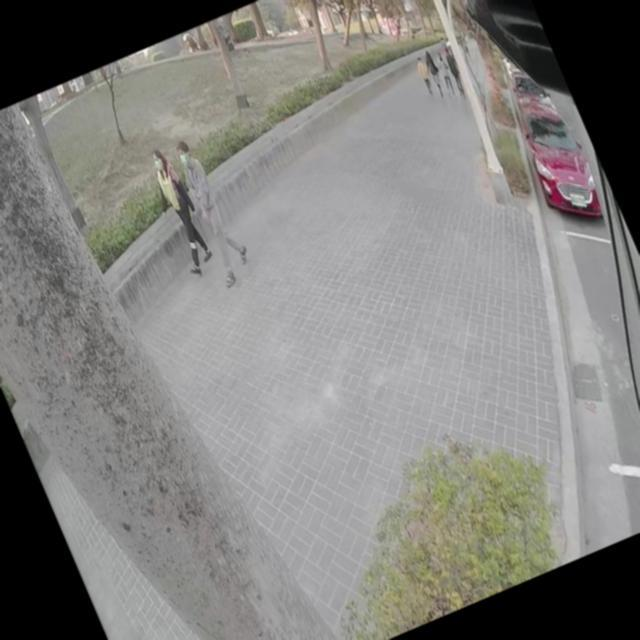person: (170, 134, 254, 284), (138, 148, 216, 280), (441, 46, 468, 97), (419, 48, 447, 95), (432, 51, 457, 95), (412, 55, 436, 94)
